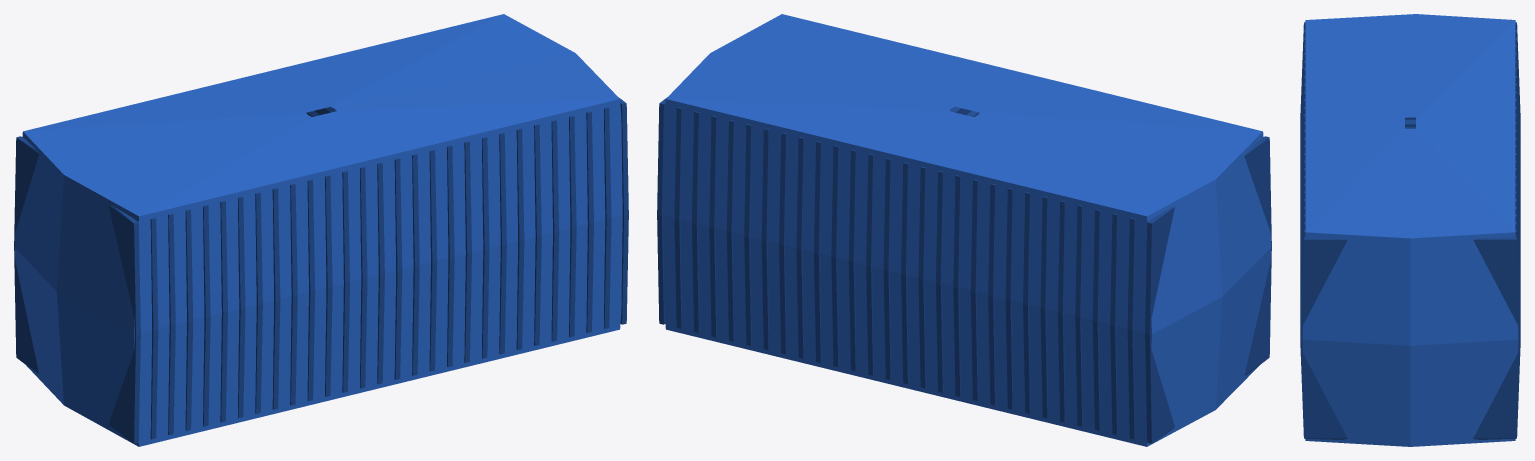
Rendered from s-container-2.glb.
The picture shows the model from 3 angles, left to right: view 1: azimuth 30°, elevation 25°; view 2: azimuth 150°, elevation 25°; view 3: azimuth 270°, elevation 25°; orthographic projection. The views are drawn at different scales.
Parts seen in each view (by area): view 1: p; view 2: p; view 3: p.
Boxes of the visible parts, x1=… form: p: x1=14, y1=14, x2=628, y2=446; p: x1=657, y1=14, x2=1271, y2=446; p: x1=1300, y1=14, x2=1520, y2=446.
Bounding box in the file's own units: 6 × 2.6 × 2.42.
